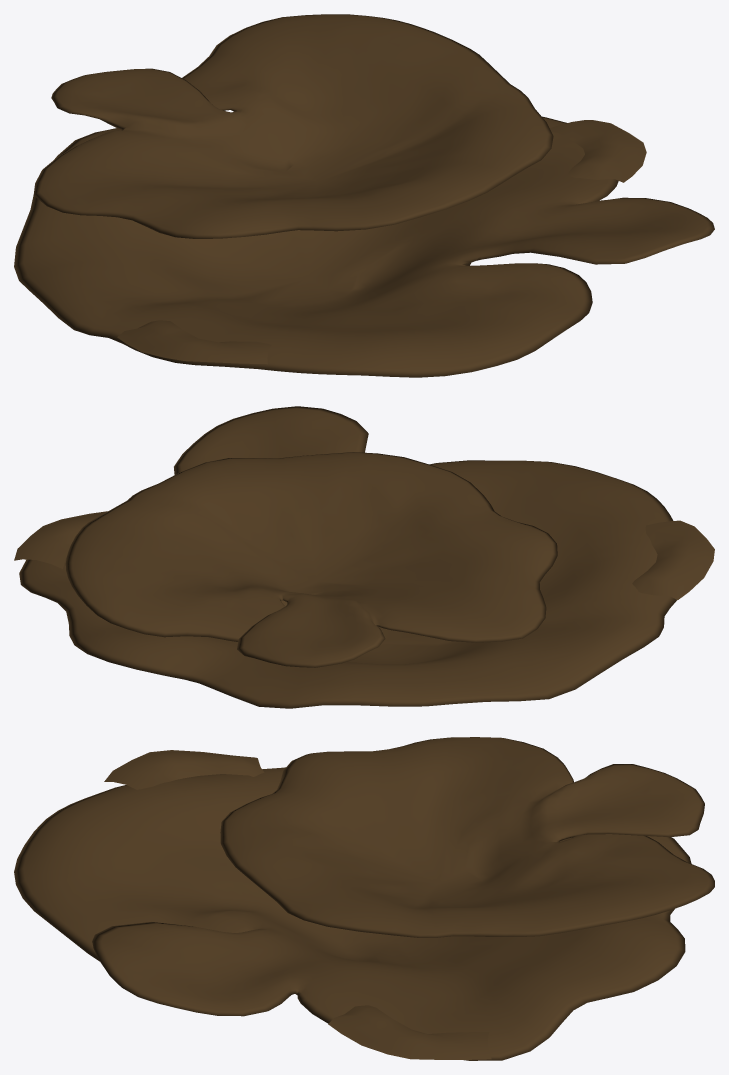
The model's file is SM_Coral_Plate_Montipora_03.dae.
The picture shows the model from 3 angles, top to bottom: view 1: azimuth 30°, elevation 25°; view 2: azimuth 150°, elevation 25°; view 3: azimuth 270°, elevation 25°; orthographic projection. The views are drawn at different scales.
Parts seen in each view (by area): view 1: SM_Coral_Plate_Montipora_03_LOD0; view 2: SM_Coral_Plate_Montipora_03_LOD0; view 3: SM_Coral_Plate_Montipora_03_LOD0.
Part boxes in pixels (left/top/right/bottom): SM_Coral_Plate_Montipora_03_LOD0: left=14, top=14, right=714, bottom=377; SM_Coral_Plate_Montipora_03_LOD0: left=14, top=406, right=714, bottom=708; SM_Coral_Plate_Montipora_03_LOD0: left=14, top=737, right=714, bottom=1060.
Size of what is drawn, in the model's own units: 143 by 29.29 by 142.
